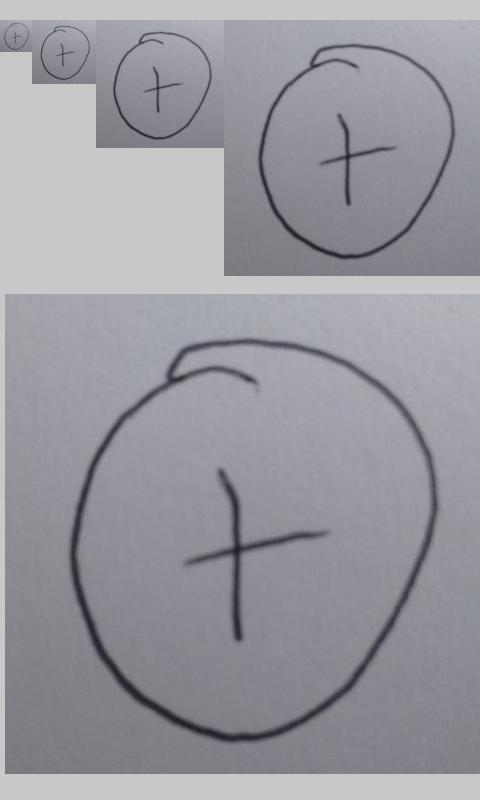button: (67, 335, 440, 744), (257, 42, 456, 260), (113, 31, 212, 140), (40, 25, 92, 80), (3, 22, 30, 51)
